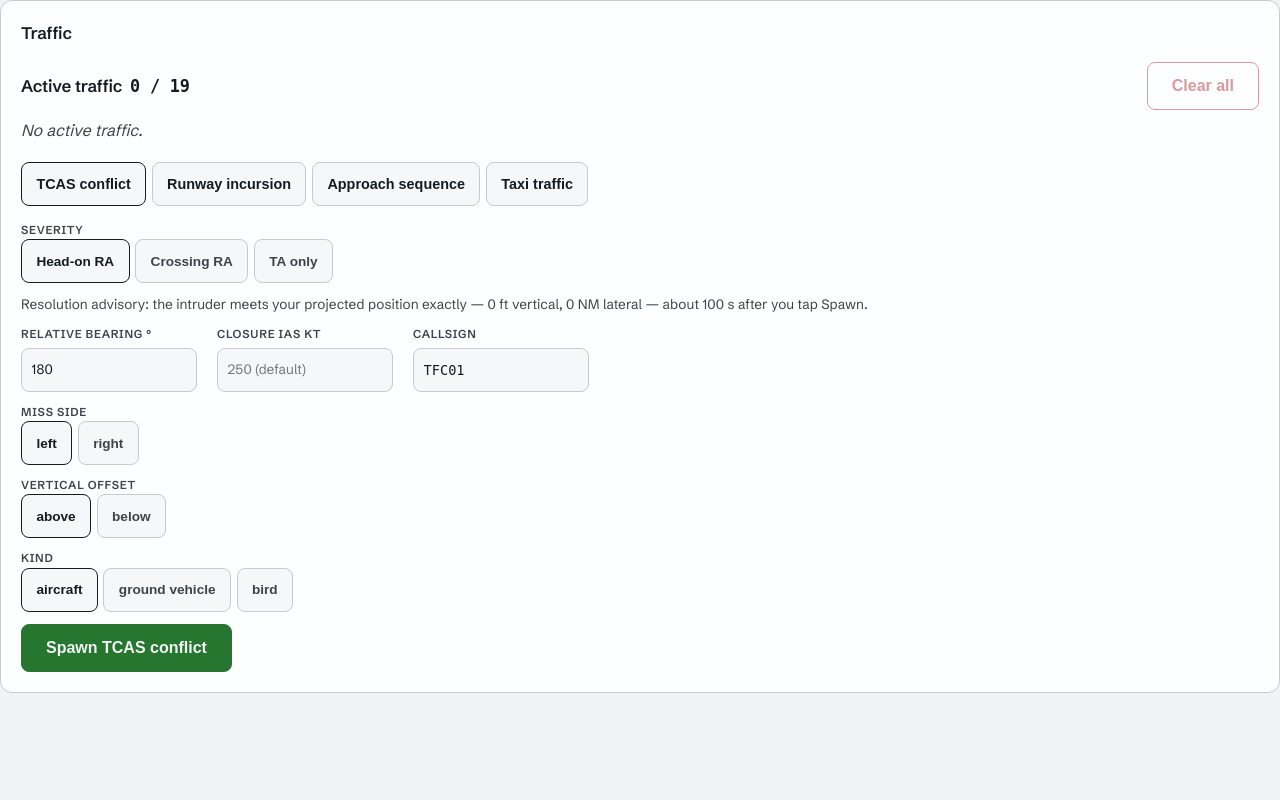
TrafficPanel › the segmented picker swaps the active form and remembers it in the slice
Expected: the text "Active traffic" is shown, [21, 76, 122, 96]
Click the button "Runway incursion": (229, 184) [152, 162, 306, 206]
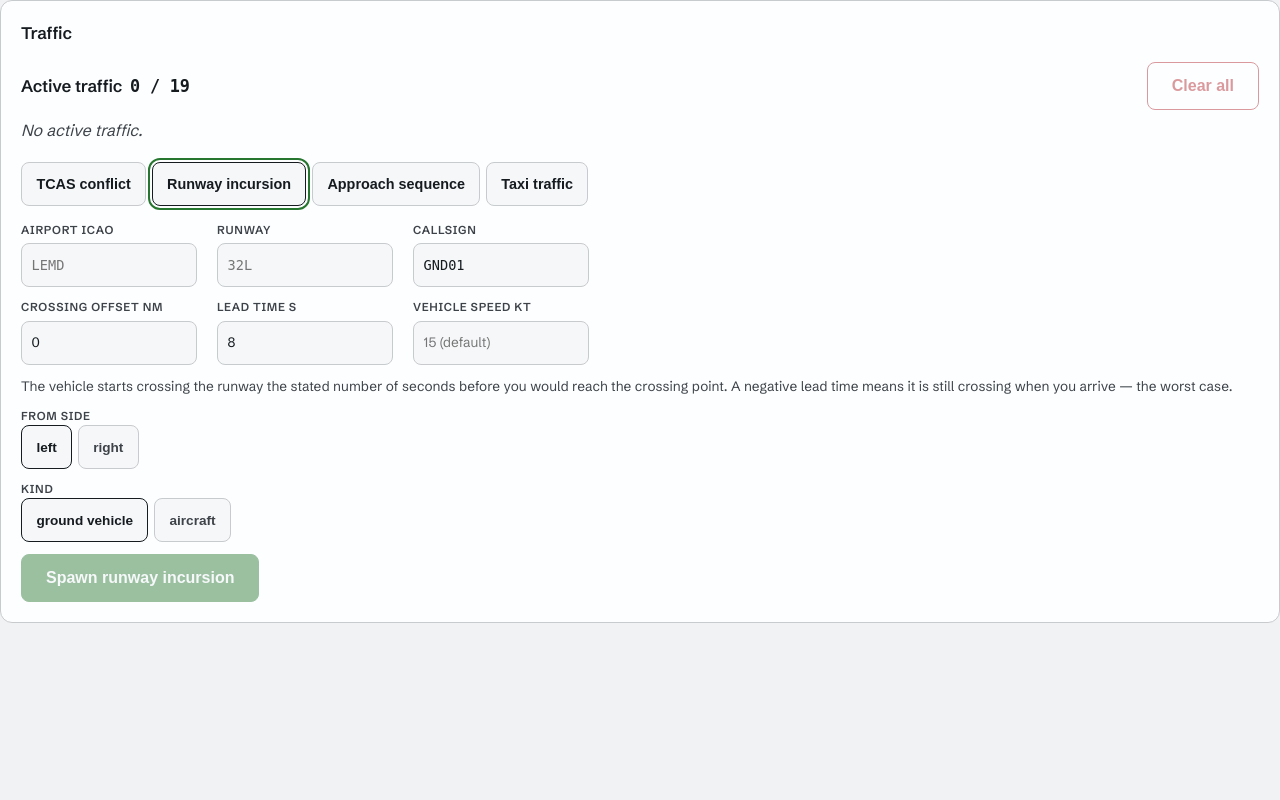
Expected: the button "Spawn runway incursion" is shown, [21, 554, 260, 602]
Expected: the button "Spawn TCAS conflict" is gone
